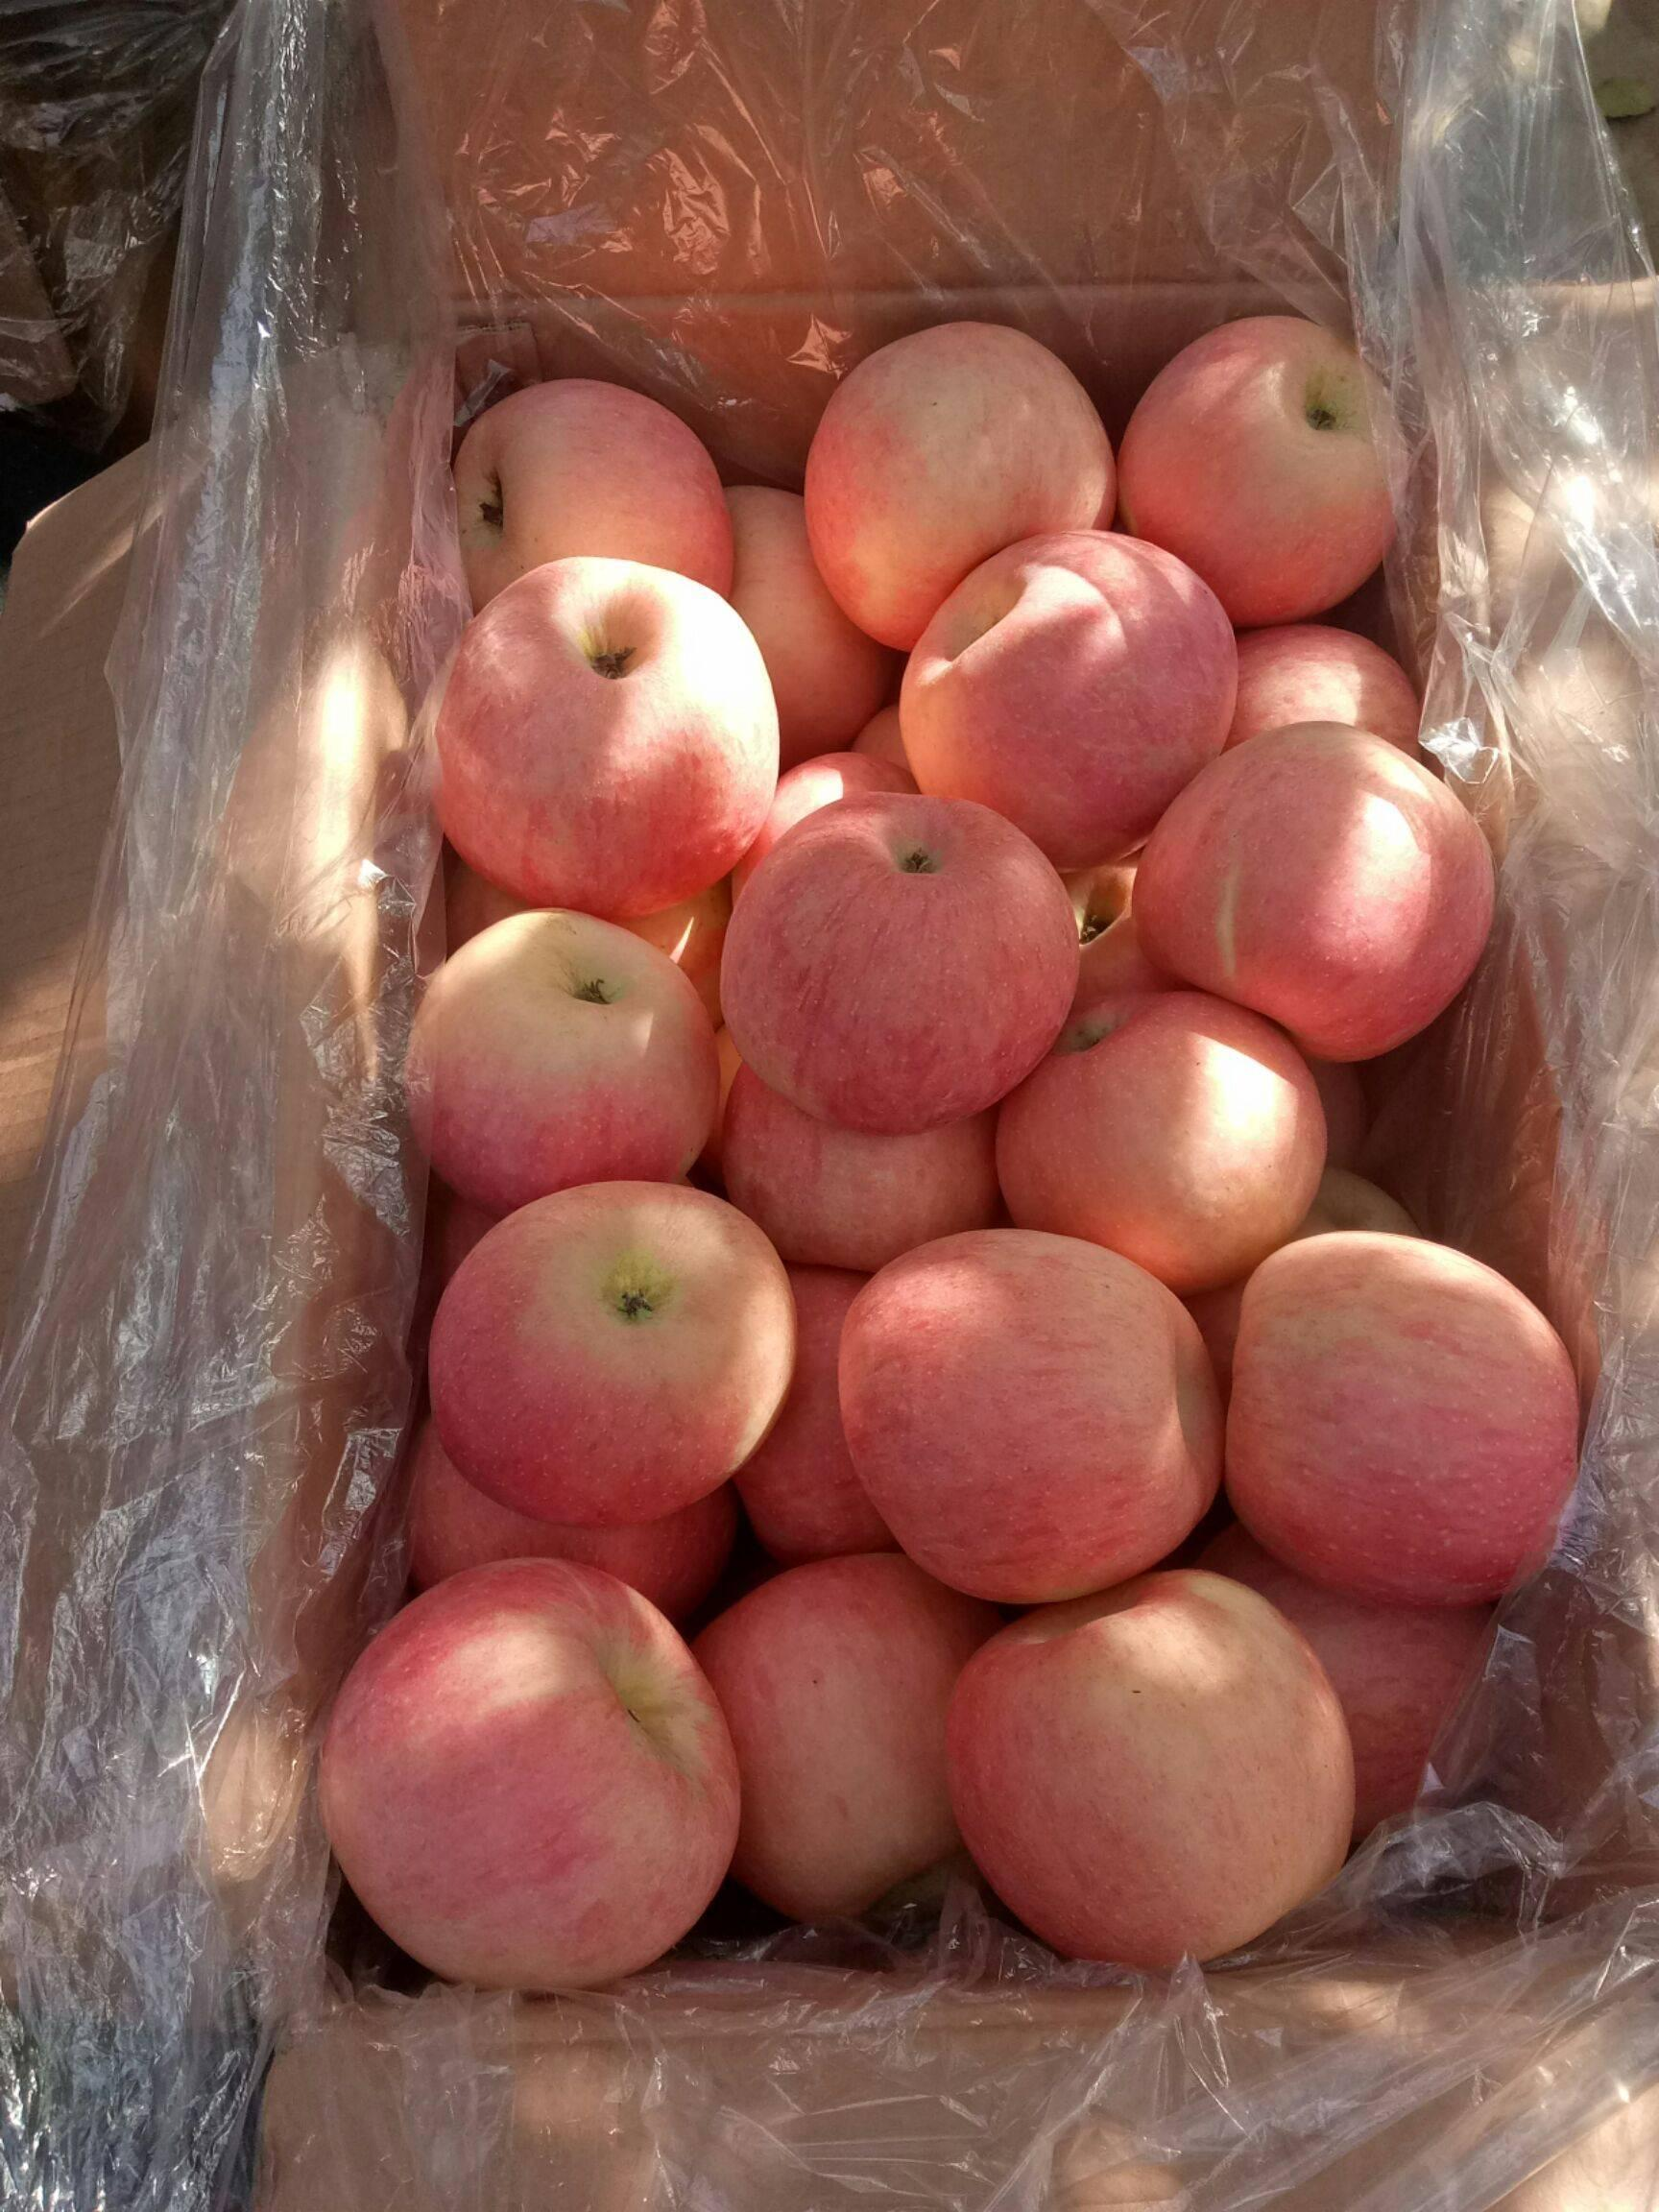apple: (307, 1547, 737, 1993), (936, 1571, 1349, 1982), (836, 1221, 1232, 1604), (1209, 1224, 1582, 1618), (418, 549, 779, 927), (1126, 711, 1506, 1066), (416, 1177, 796, 1531), (721, 791, 1079, 1136), (683, 1552, 1004, 1919), (903, 529, 1241, 874), (796, 319, 1115, 651), (390, 904, 735, 1205), (1000, 986, 1330, 1296), (1110, 308, 1412, 631), (457, 376, 739, 610), (727, 484, 903, 766)
